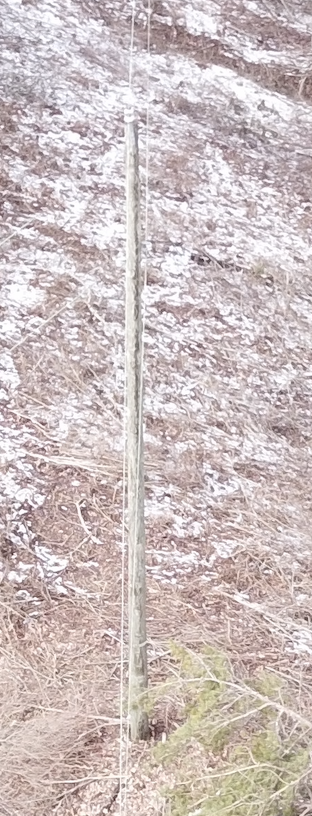pole: (71, 90, 197, 754)
